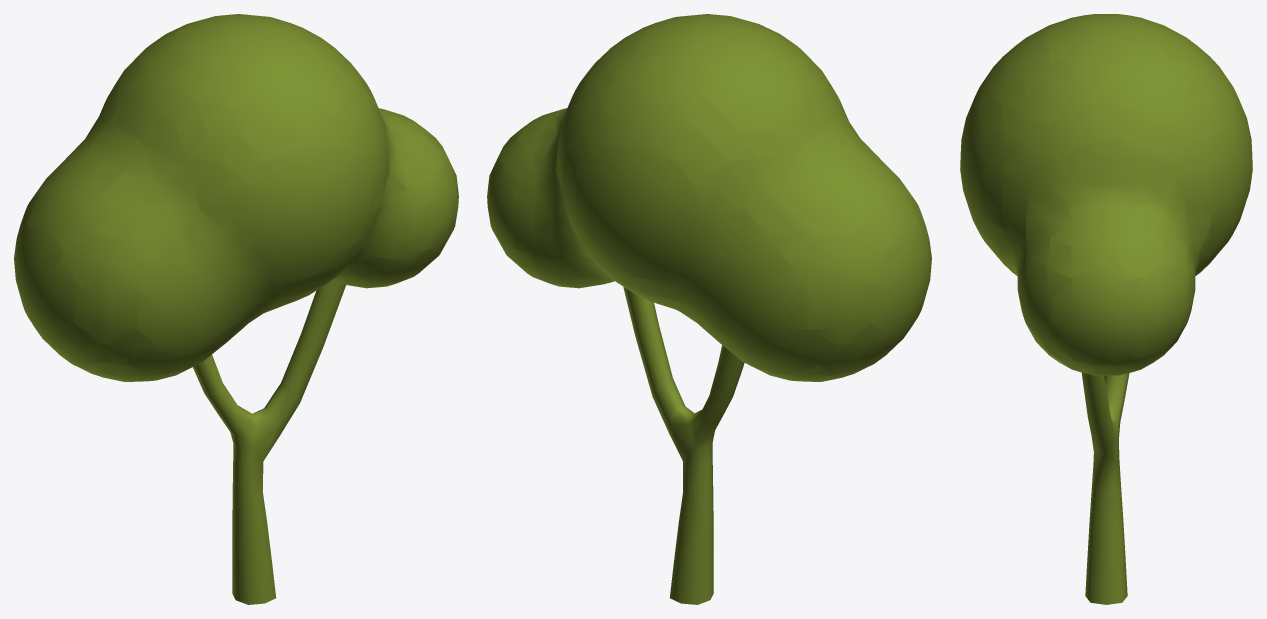
The model's file is SM_Tree_3.fbx.
The picture shows the model from 3 angles, left to right: view 1: azimuth 30°, elevation 25°; view 2: azimuth 150°, elevation 25°; view 3: azimuth 270°, elevation 25°; orthographic projection.
Visible parts, largest first — view 1: SM_Tree_3; view 2: SM_Tree_3; view 3: SM_Tree_3.
Part boxes in pixels (x1,y1,x2,y2): SM_Tree_3: [14, 14, 458, 604]; SM_Tree_3: [487, 14, 931, 604]; SM_Tree_3: [960, 14, 1252, 604].
Size of the model in its own units: 4.27 by 5.59 by 2.64.
